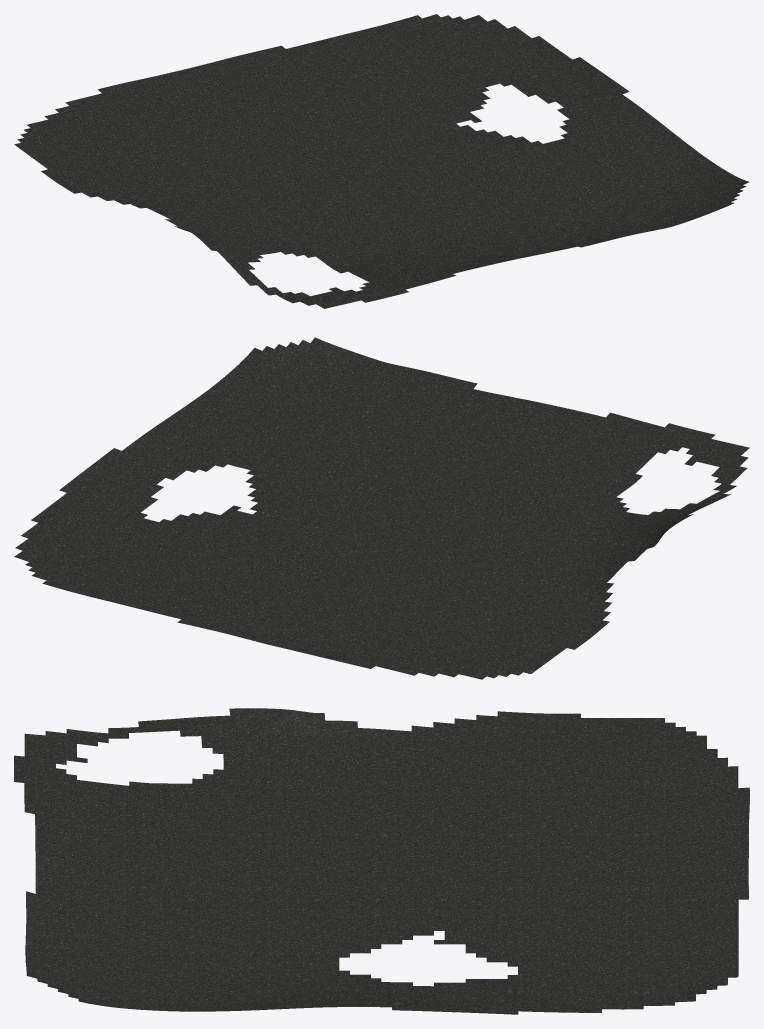
The model's file is cityLevel2Holes.obj.
3 renders of one model, top to bottom at view 1: azimuth 30°, elevation 25°; view 2: azimuth 150°, elevation 25°; view 3: azimuth 270°, elevation 25°, orthographic. The views are drawn at different scales.
Visible parts, largest first — view 1: Plane.003_Plane.009; view 2: Plane.003_Plane.009; view 3: Plane.003_Plane.009.
Part boxes in pixels (<box>): Plane.003_Plane.009: <box>14,14,749,308</box>; Plane.003_Plane.009: <box>14,337,749,679</box>; Plane.003_Plane.009: <box>14,708,749,1014</box>.
Bounding box in the file's own units: 65.92 × 2.33 × 66.11.
